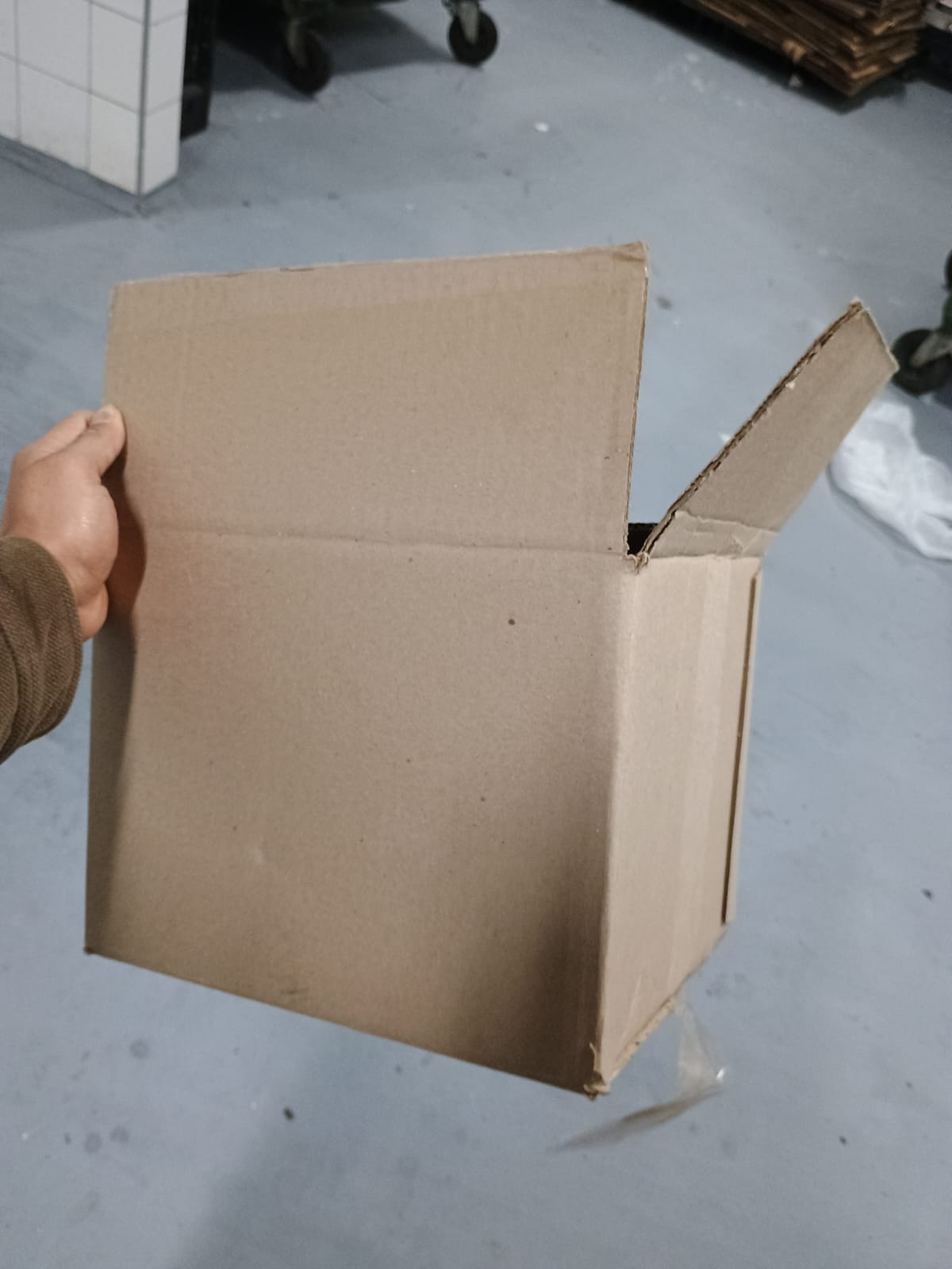Carton: (89, 241, 899, 1092)
